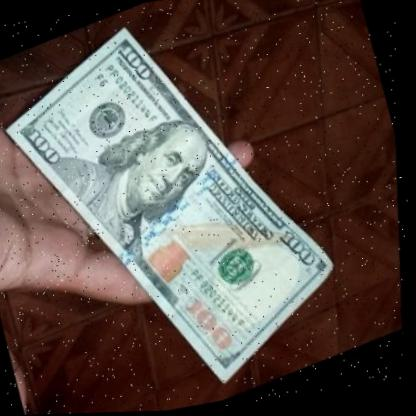one_hundred-front: (0, 0, 380, 416)
